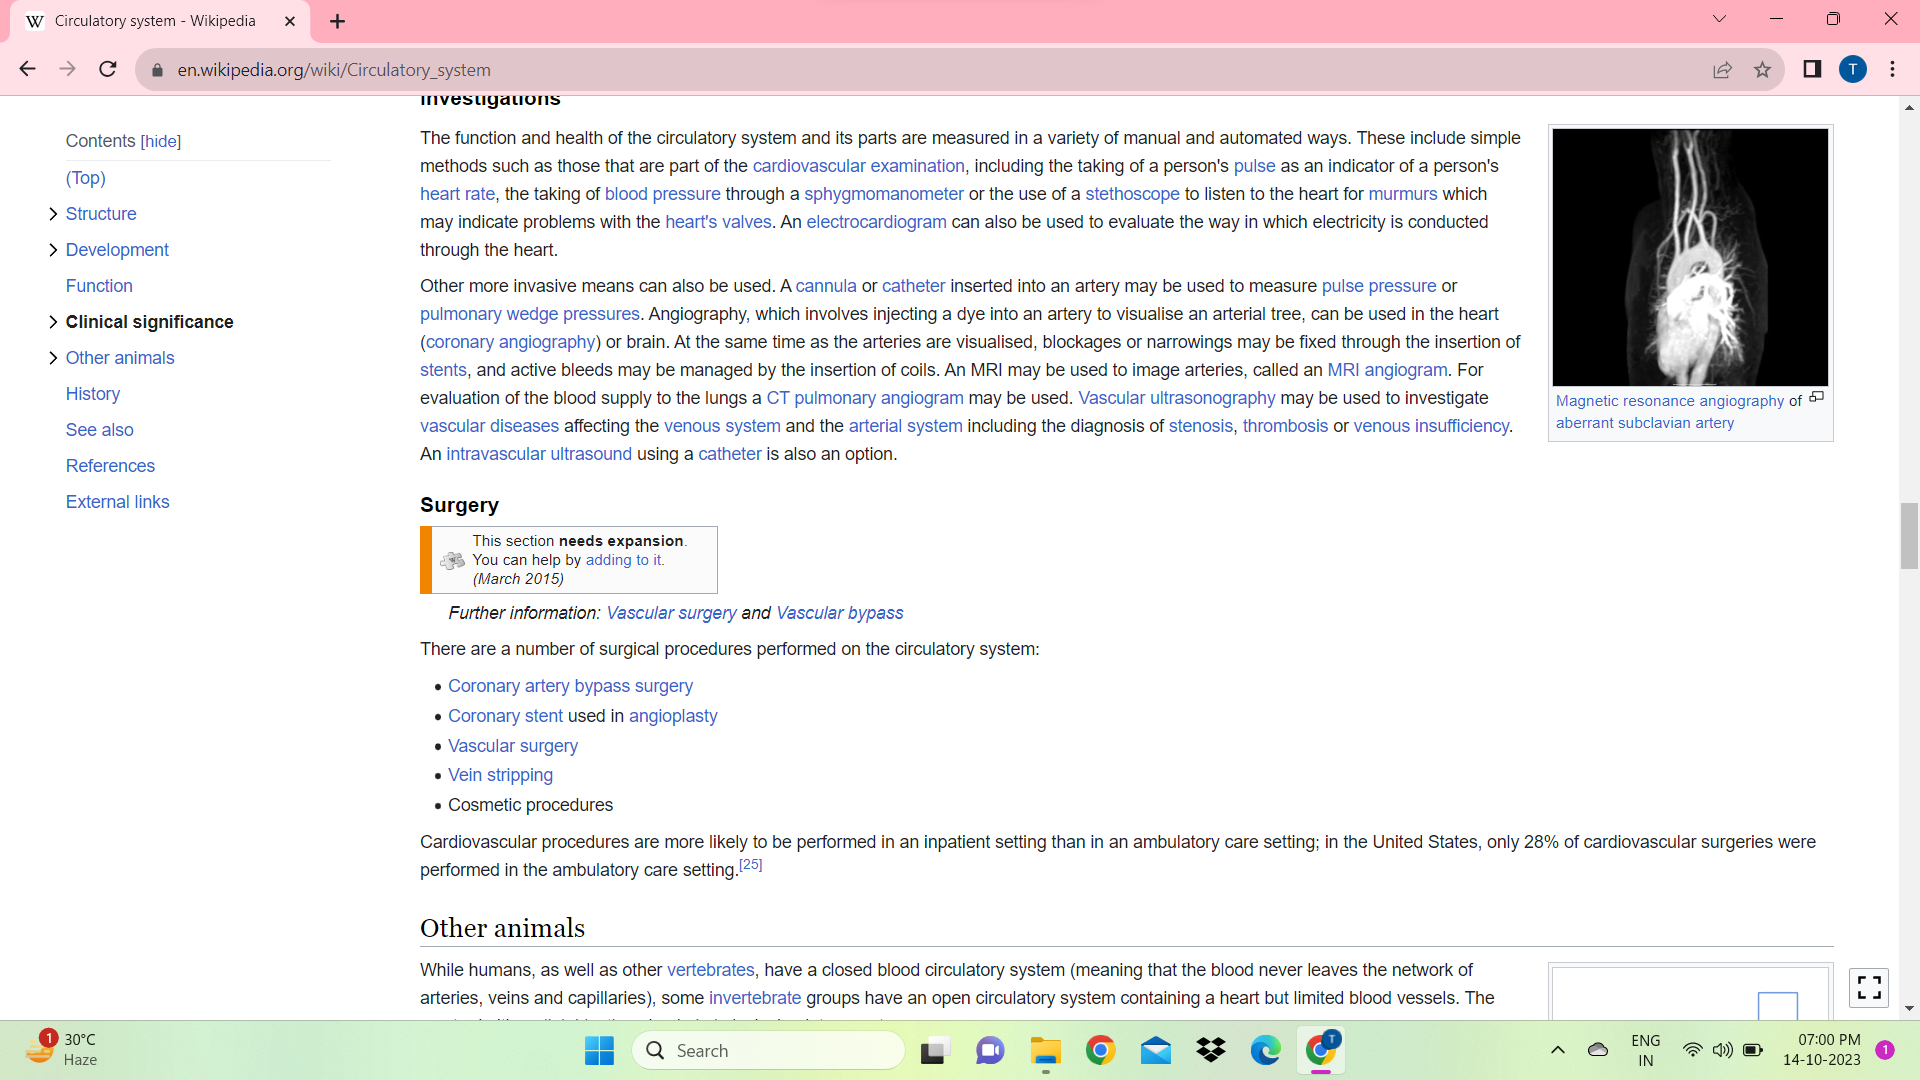Image: (1551, 116, 1855, 393)
Paragraph: (411, 265, 1536, 471), (410, 115, 1540, 264), (400, 820, 1836, 885), (384, 953, 1520, 1017), (417, 675, 807, 822), (410, 625, 1046, 671), (438, 596, 936, 634), (390, 889, 615, 953), (57, 302, 251, 336), (62, 485, 196, 522), (51, 360, 146, 410), (38, 133, 218, 156), (414, 488, 509, 526), (54, 455, 179, 481), (51, 194, 153, 224)
